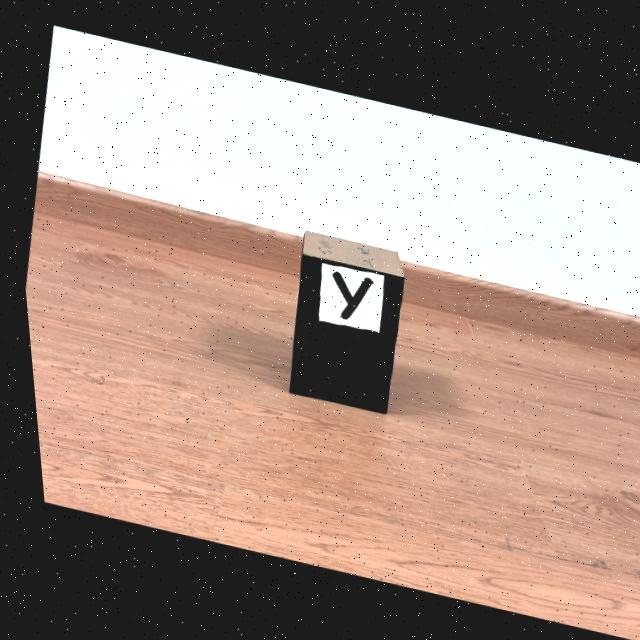Y: (328, 269, 368, 317)
